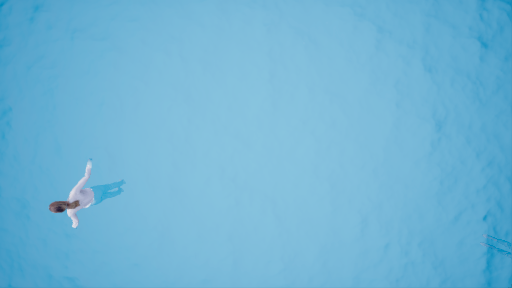person: (47, 160, 134, 226)
